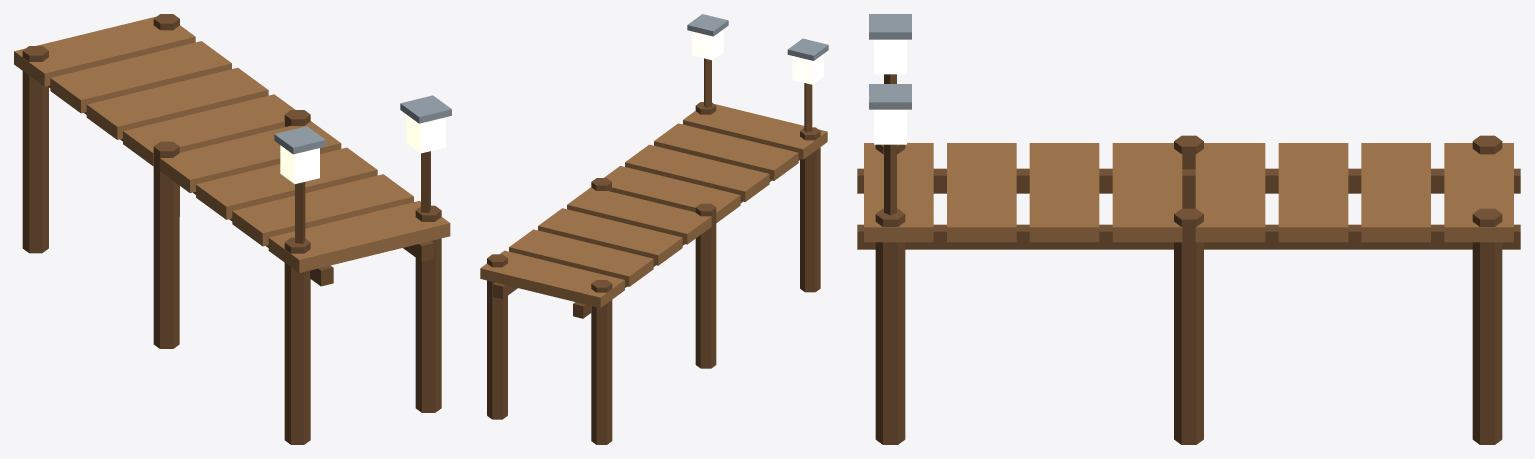
Rendered from dock.glb.
The picture shows the model from 3 angles, left to right: view 1: azimuth 30°, elevation 25°; view 2: azimuth 150°, elevation 25°; view 3: azimuth 270°, elevation 25°; orthographic projection. The views are drawn at different scales.
Parts seen in each view (by area): view 1: Body, Lantern.L, Lantern.R; view 2: Body, Lantern.L, Lantern.R; view 3: Body, Lantern.L, Lantern.R.
Boxes of the visible parts, <box> form: Body: <box>14,14,451,444</box>; Lantern.L: <box>406,114,445,153</box>; Lantern.R: <box>280,145,319,183</box>; Body: <box>480,14,828,444</box>; Lantern.L: <box>692,29,723,60</box>; Lantern.R: <box>792,54,823,84</box>; Body: <box>857,14,1520,444</box>; Lantern.L: <box>874,109,906,144</box>; Lantern.R: <box>874,39,906,74</box>.
Bounding box in the file's own units: 1.26 × 2.3 × 4.
